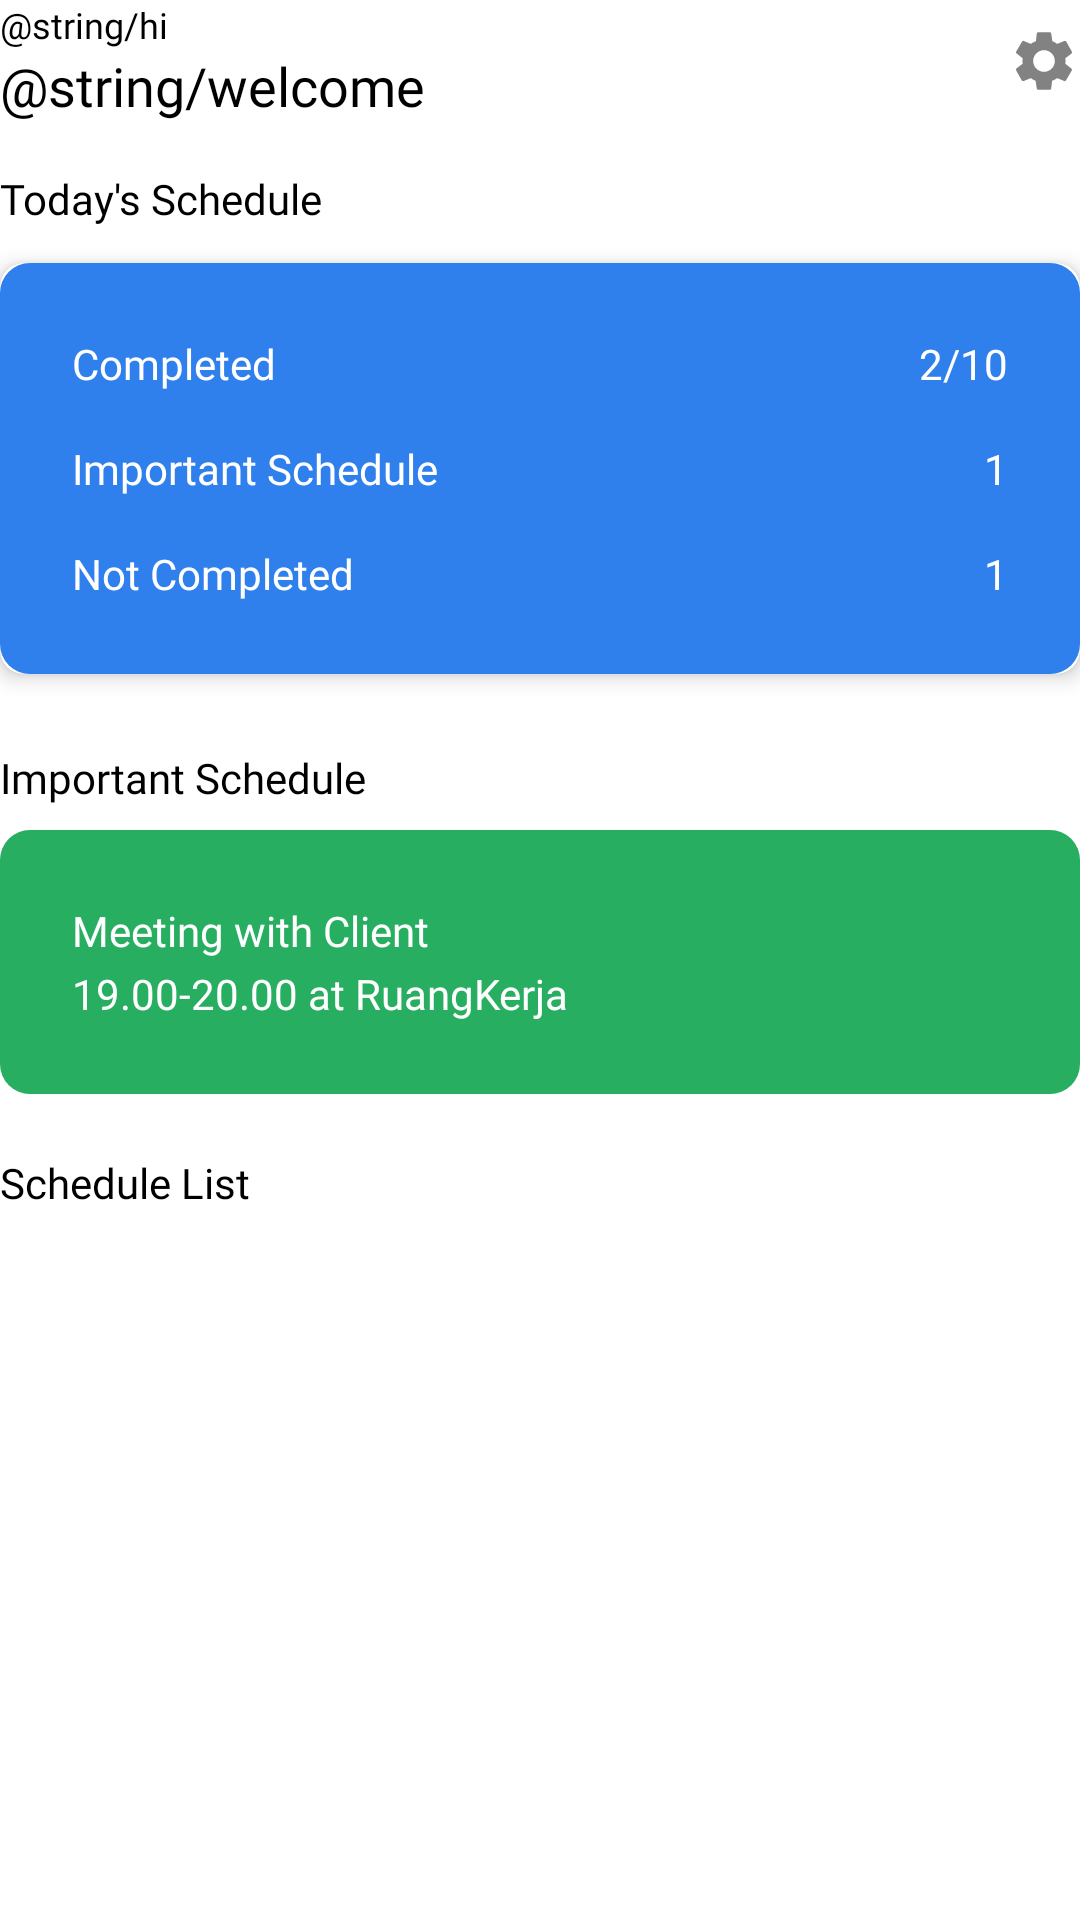

Where icons sit on this 1080w x 1920h app screen, as (x1=x1, y1=y1, x2=x2, y2=y2):
Setting Button: (x1=1016, y1=32, x2=1072, y2=90)
